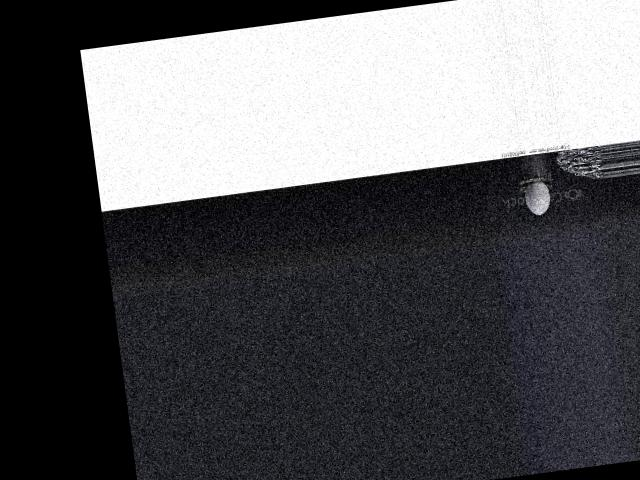egg: (522, 179, 552, 216)
